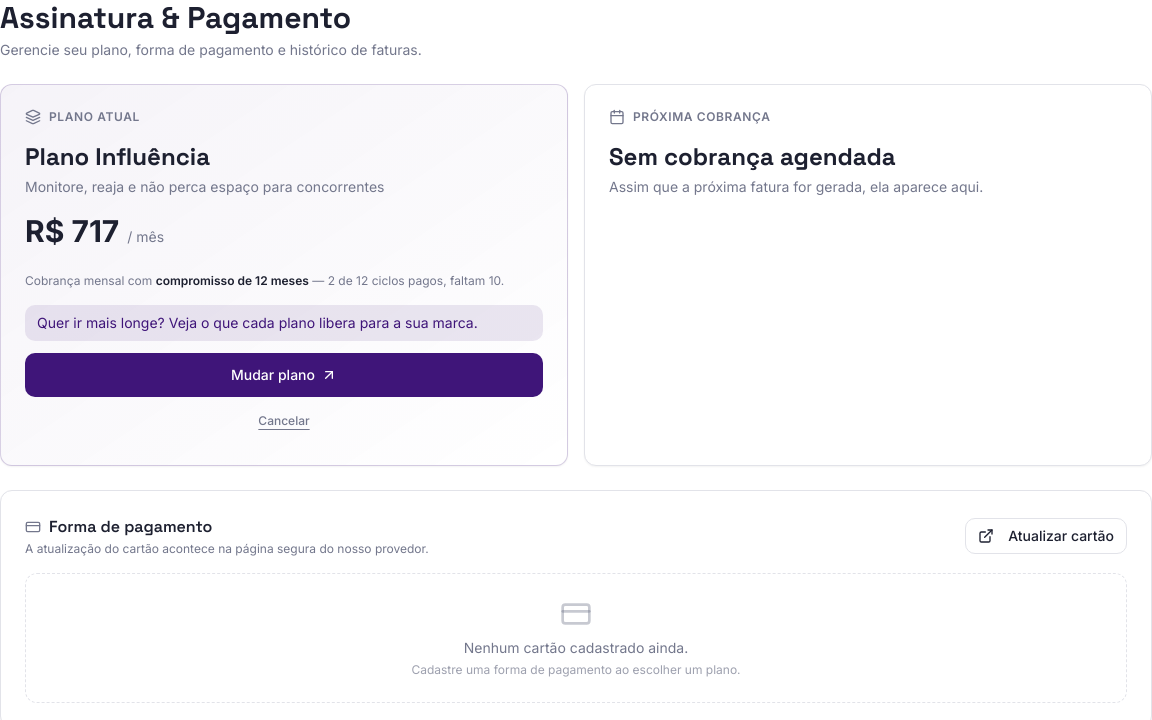
Scenario: Diálogo de cancelamento — valor vem do servidor › falha na prévia: nenhum valor, Confirmar desabilitado e 'Tentar de novo' busca de novo
This screenshot has width=1152, height=720.
Click the button "Cancelar" at {"x": 284, "y": 421}, box left=242, top=401, right=326, bottom=441
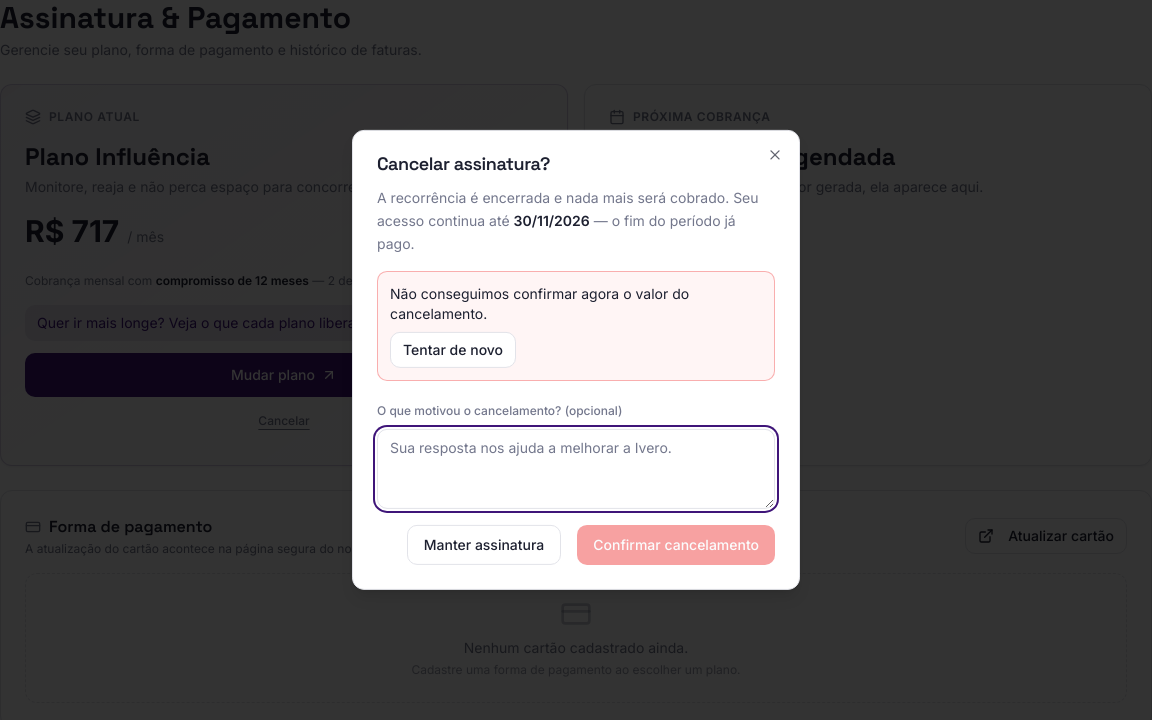
Check: the message "Não conseguimos confirmar agora o valor do cancelamento. Tentar de novo" is shown, box left=377, top=271, right=775, bottom=381
Check: the button "Confirmar cancelamento" is disabled, box left=577, top=525, right=775, bottom=565
Click the button "Tentar de novo" at {"x": 453, "y": 350}, box left=390, top=332, right=516, bottom=368
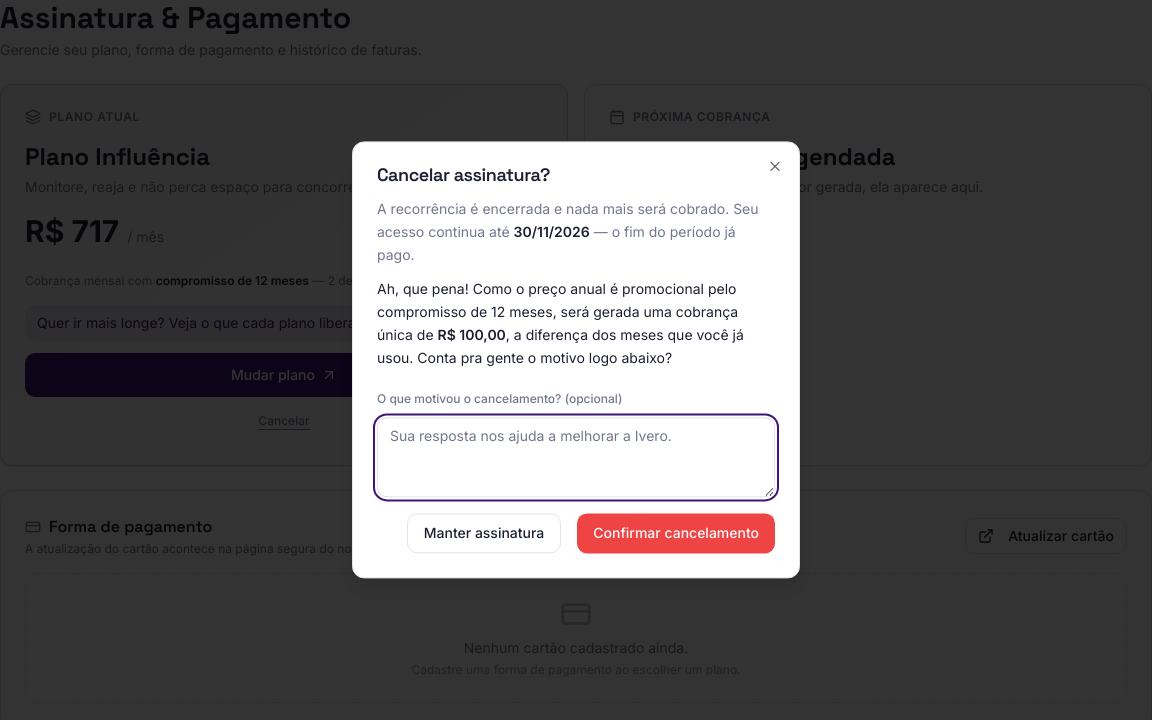
Check: the element with test id "cancel-preview-multa" shows "R$ 100,00", box left=438, top=326, right=506, bottom=343
Check: the button "Confirmar cancelamento" is enabled, box left=577, top=514, right=775, bottom=554
